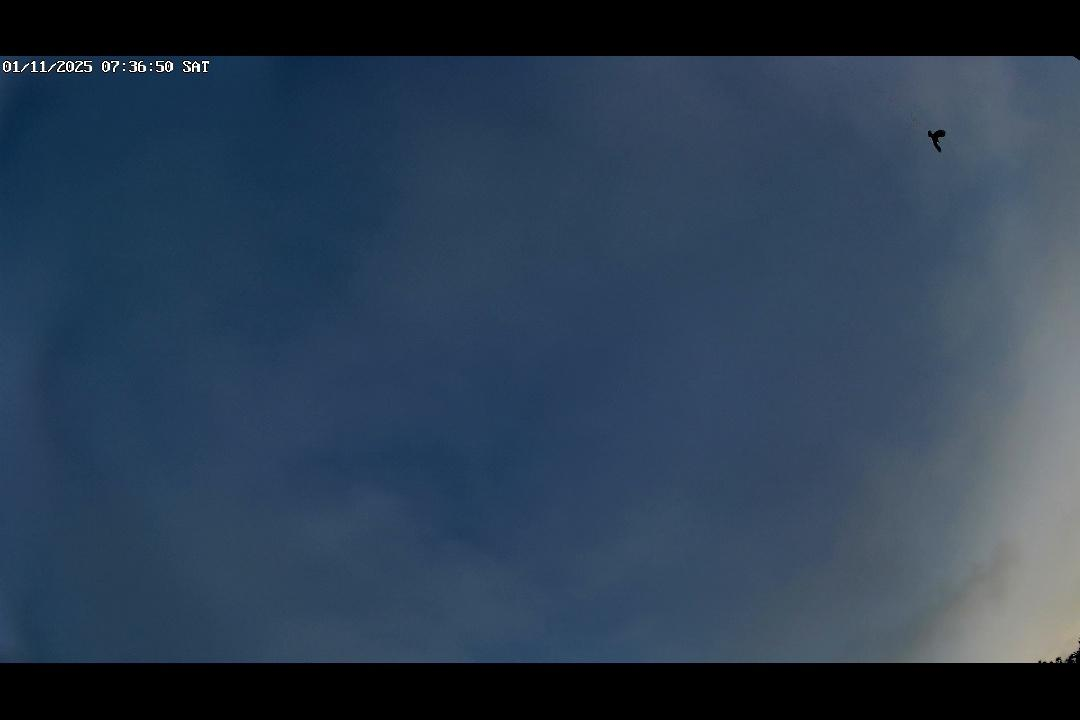WildLife: (917, 121, 959, 161)
